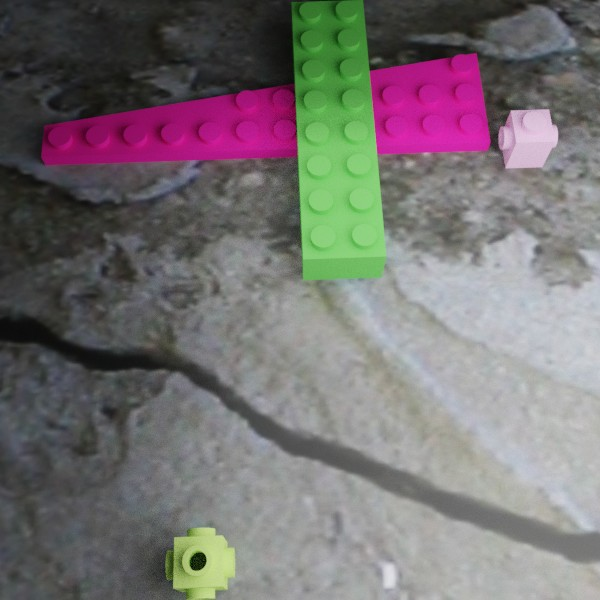lego: (41, 53, 490, 165), (291, 0, 386, 280), (165, 527, 235, 600), (498, 109, 557, 168)
